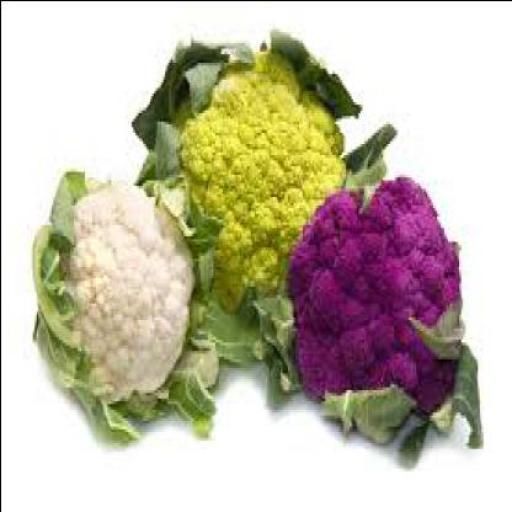biodegradable: (132, 22, 397, 364), (259, 114, 484, 462), (33, 146, 218, 439)
